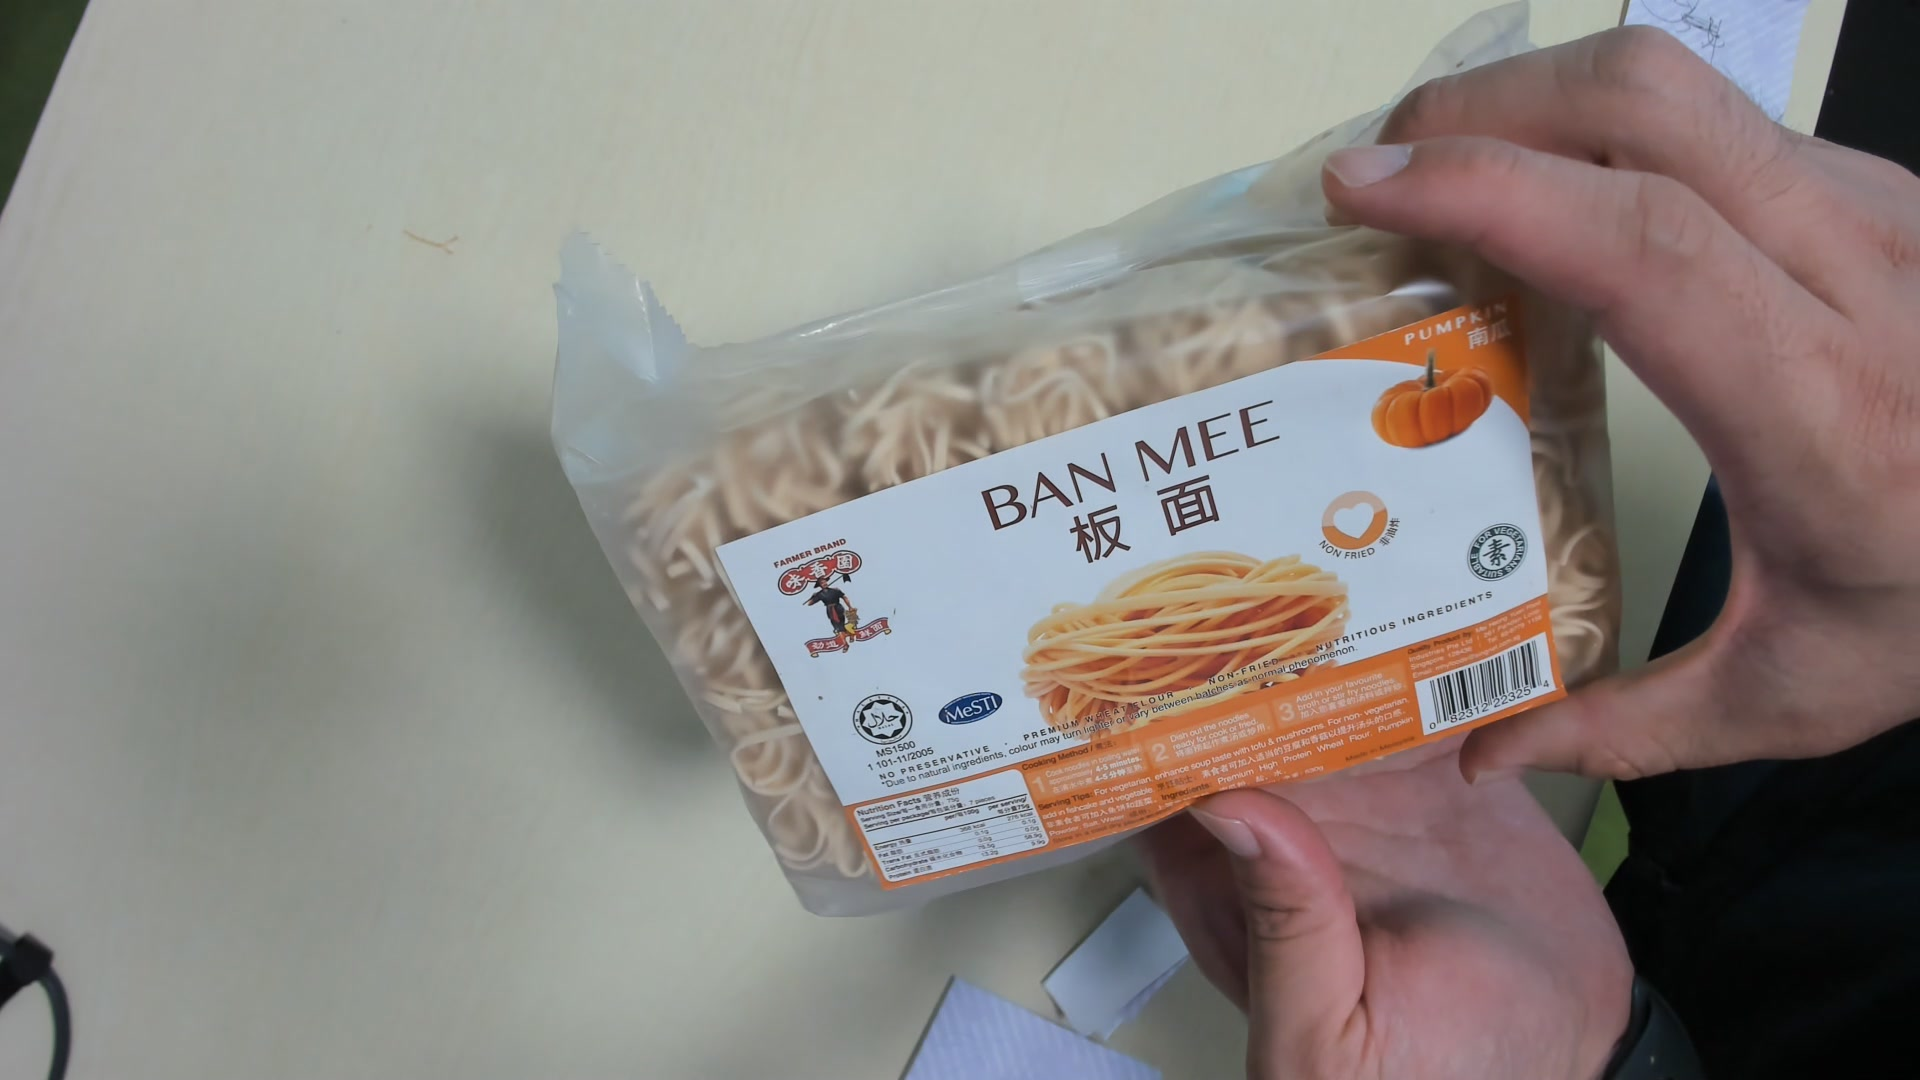OtherNoodles_500-599g_Halal_NonHealthy: (559, 78, 1623, 920)
